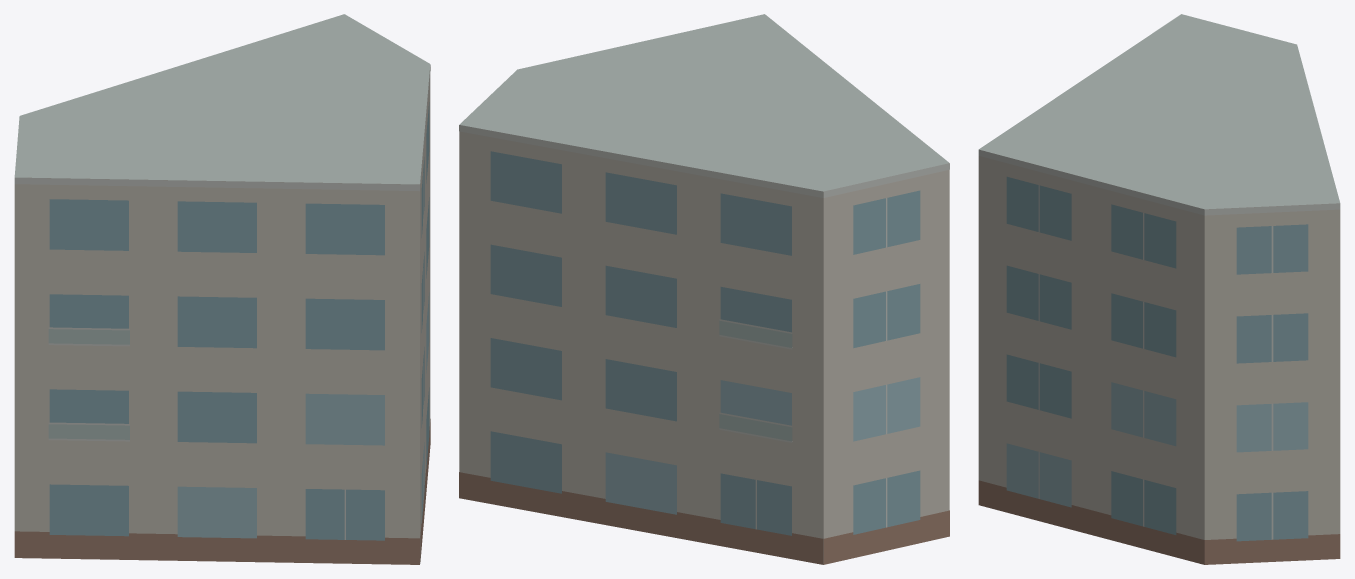
The model's file is survey-upis-32539802.glb.
The picture shows the model from 3 angles, left to right: view 1: azimuth 30°, elevation 25°; view 2: azimuth 150°, elevation 25°; view 3: azimuth 270°, elevation 25°; orthographic projection. The views are drawn at different scales.
Visible parts, largest first — view 1: survey-upis-32539802.tmp; view 2: survey-upis-32539802.tmp; view 3: survey-upis-32539802.tmp.
Boxes of the visible parts, box(x1,y1,x2,y2) form: survey-upis-32539802.tmp: box(14, 14, 430, 564); survey-upis-32539802.tmp: box(459, 14, 949, 564); survey-upis-32539802.tmp: box(978, 14, 1340, 564).
Bounding box in the file's own units: 16.27 × 13.8 × 12.74.
